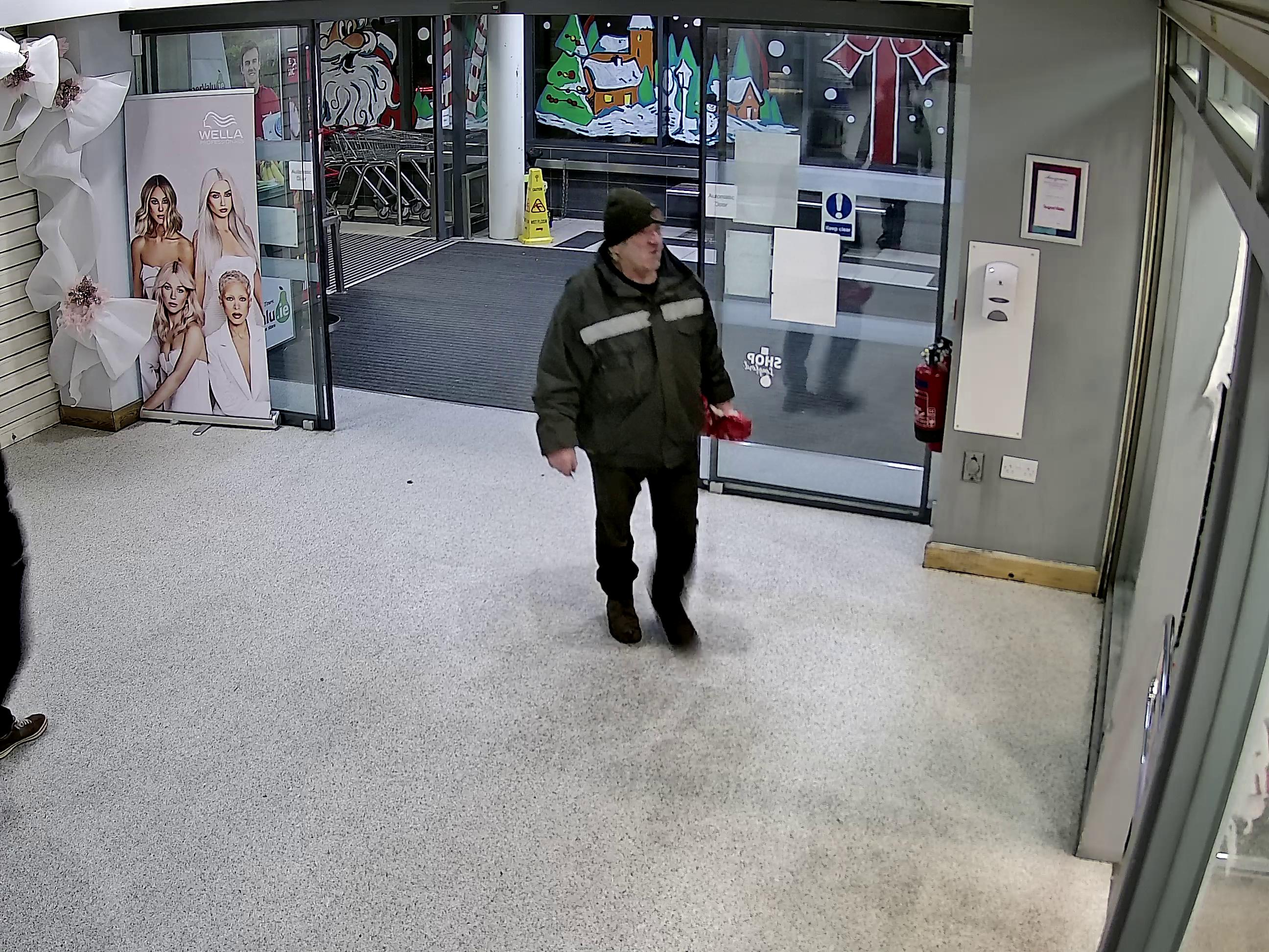empty-shopping-bags: (699, 399, 756, 444)
person: (534, 188, 734, 649)
person-with-empty-shopping-bag-s-: (535, 187, 756, 648)
